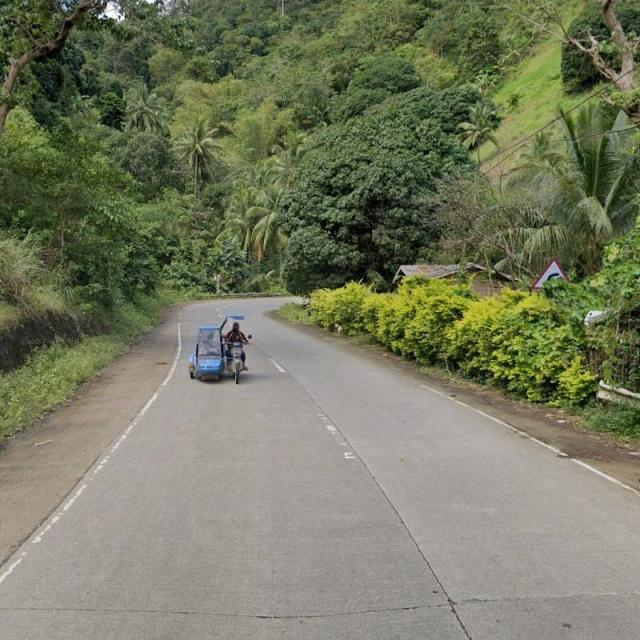warn_right_curve: (532, 257, 573, 289)
